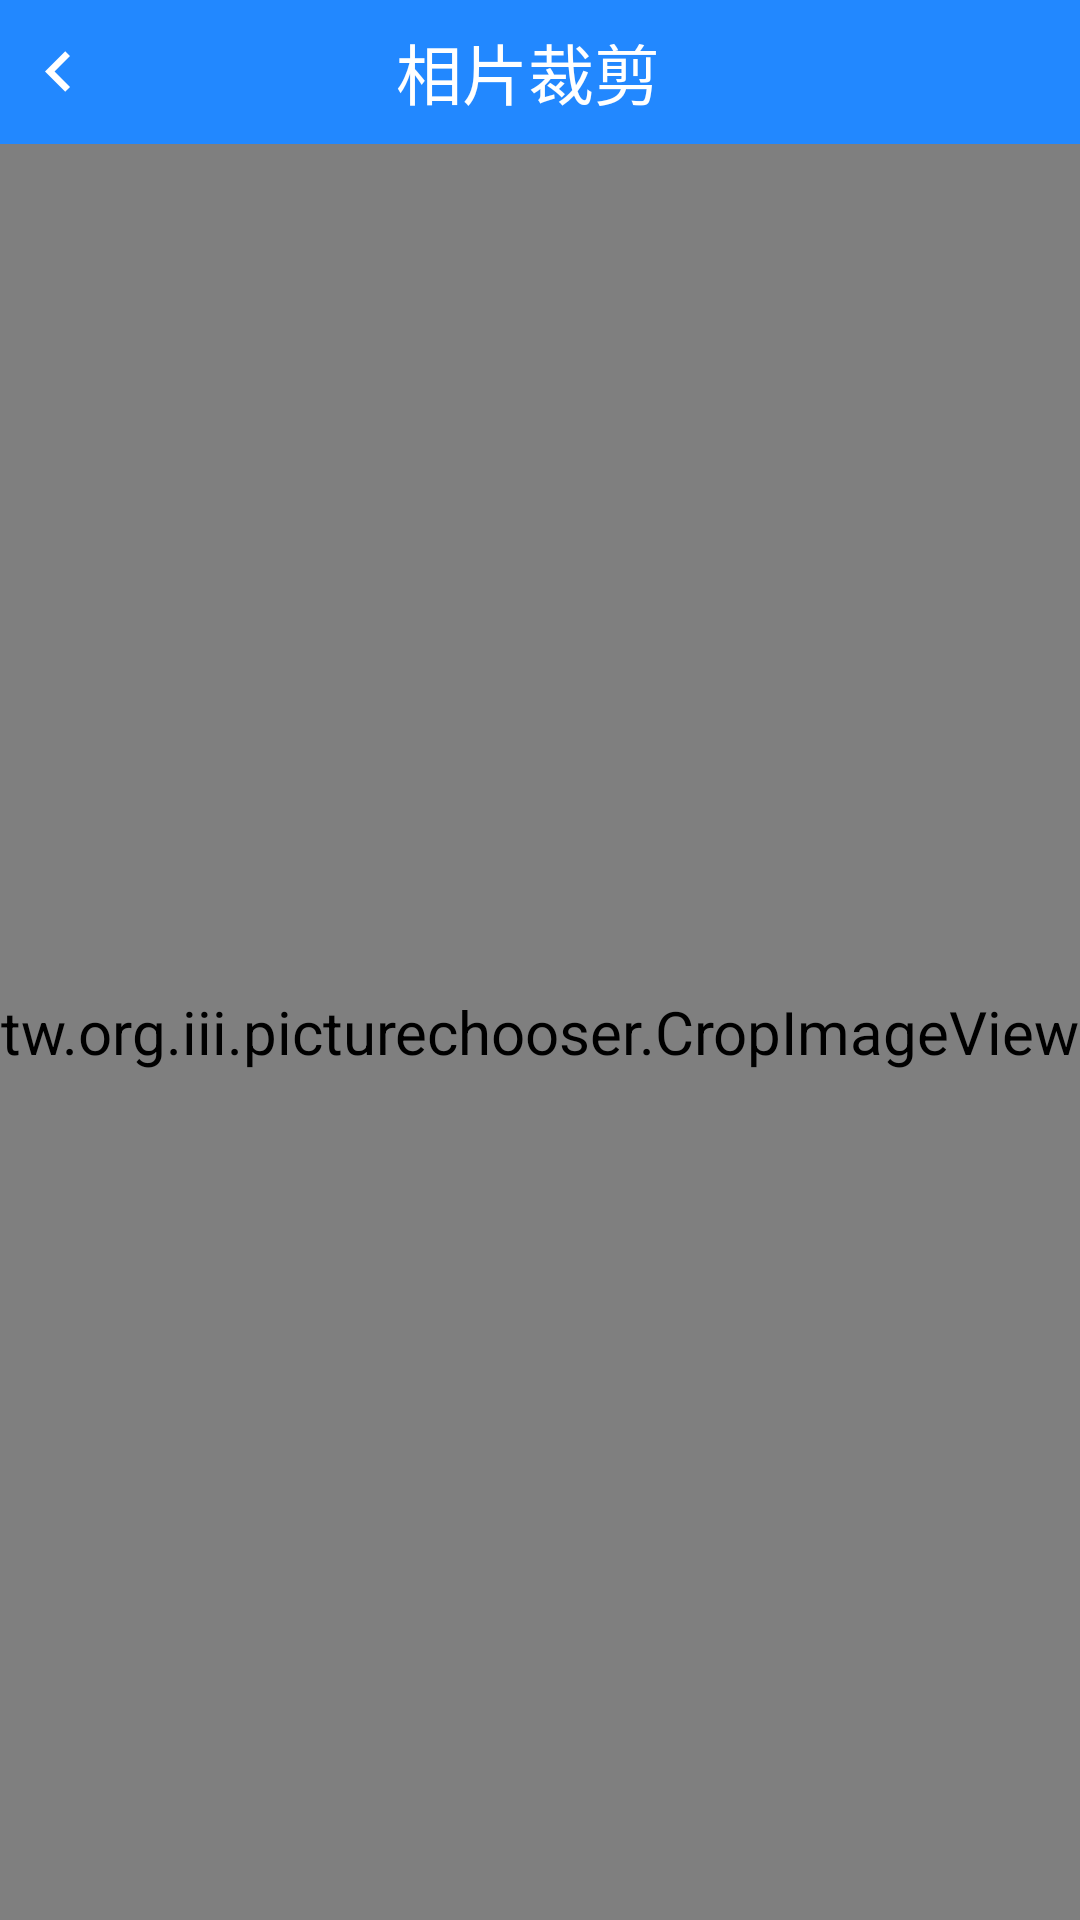

Icons on this 1080 x 1920 Android screen, each with the point to tap as point (x, y):
back: point (57, 71)
